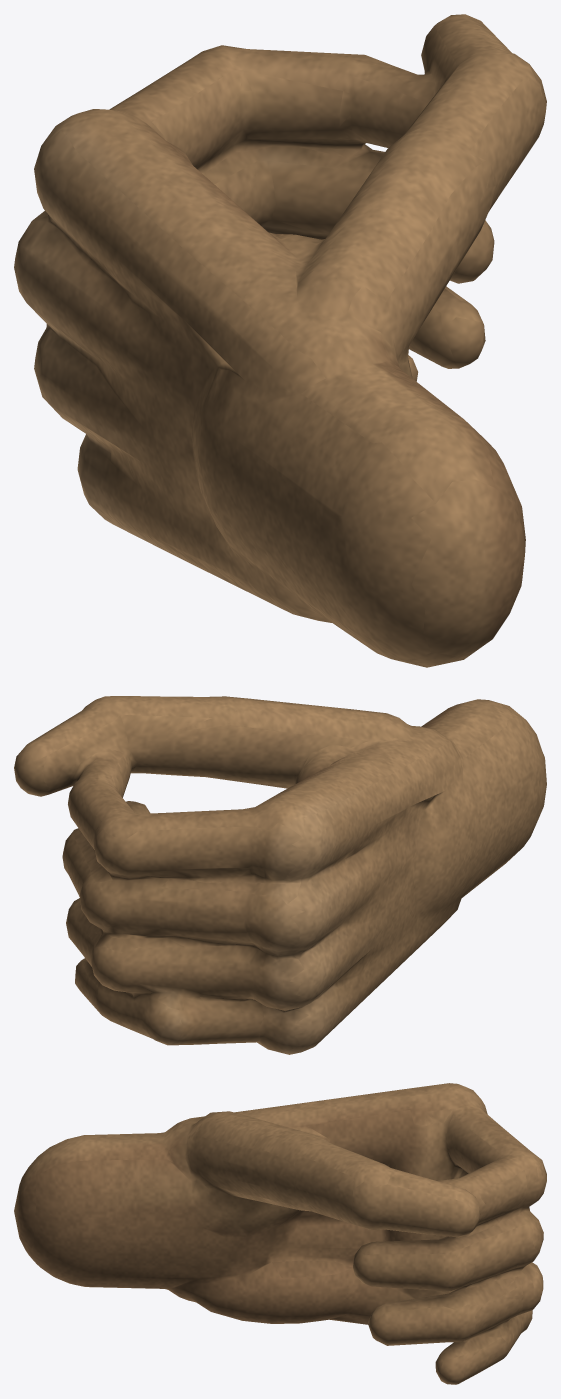
The model's file is fp_hand_storybook_cloth.glb.
The picture shows the model from 3 angles, top to bottom: view 1: azimuth 30°, elevation 25°; view 2: azimuth 150°, elevation 25°; view 3: azimuth 270°, elevation 25°; orthographic projection. The views are drawn at different scales.
Visible parts, largest first — view 1: fp_hand; view 2: fp_hand; view 3: fp_hand.
Boxes of the visible parts, box(x1,y1,x2,y2) form: fp_hand: box(14, 14, 546, 667); fp_hand: box(14, 696, 546, 1054); fp_hand: box(14, 1083, 546, 1384).
Size of the model in its own units: 0.1001 by 0.086 by 0.1649.
Materials: 1 (1 with a texture image).
